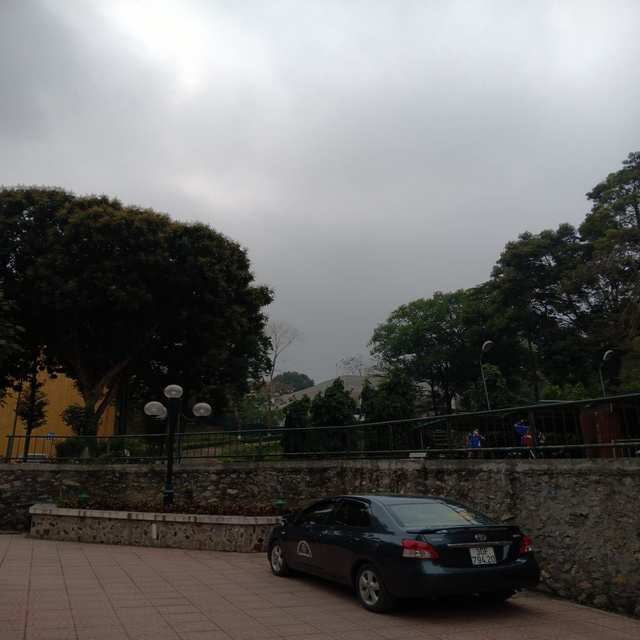cotden: (140, 381, 216, 520)
